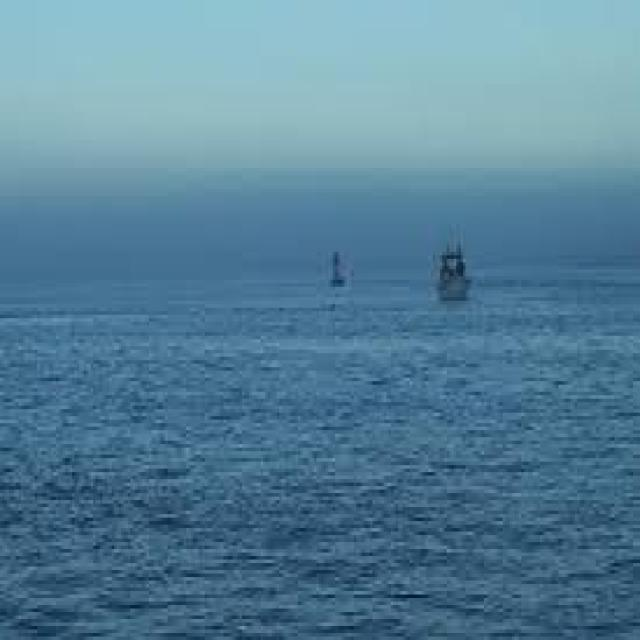fishing boat: (423, 245, 470, 309)
